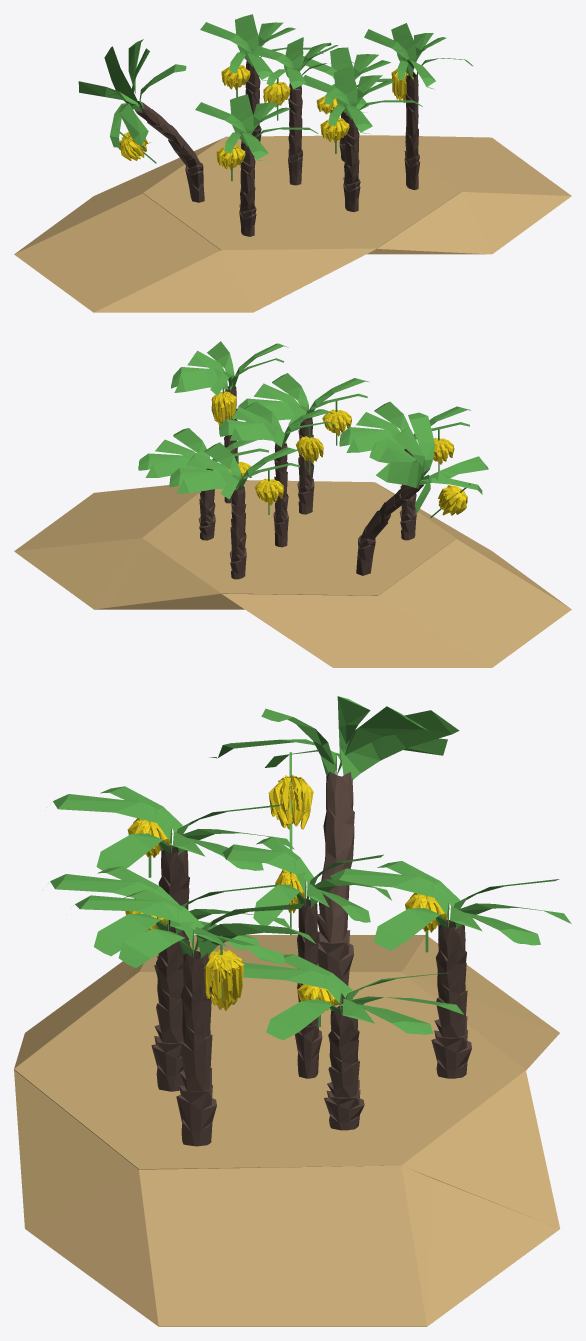
Rendered from insel7.fbx.
3 renders of one model, top to bottom at view 1: azimuth 30°, elevation 25°; view 2: azimuth 150°, elevation 25°; view 3: azimuth 270°, elevation 25°, orthographic. The views are drawn at different scales.
Visible parts, largest first — view 1: Landschaft, Blätter_10, Blätter, Blätter_4, Blätter_8, Blätter_14, Stamm_10, Blätter_12, Stamm_14, Blätter_6, Stamm_4, Stamm_12 (+7 smaller); view 2: Landschaft, Blätter_10, Blätter_8, Blätter_14, Blätter_4, Blätter, Blätter_12, Blätter_6, Stamm_10, Stamm_8, Stamm_12, Stamm_4 (+8 smaller); view 3: Landschaft, Blätter_10, Blätter_14, Blätter_8, Blätter, Stamm_14, Blätter_6, Stamm_10, Stamm_8, Blätter_4, Blätter_12, Stamm_4 (+5 smaller).
Boxes of the visible parts, x1,y1,x2,y2 form: Landschaft: (14,135,571,312); Blätter_10: (78,39,186,147); Blätter: (195,94,318,161); Blätter_4: (303,67,422,134); Blätter_8: (200,14,323,80); Blätter_14: (364,23,472,89); Stamm_10: (135,101,204,202); Blätter_12: (252,37,359,90); Stamm_14: (404,71,420,189); Blätter_6: (302,47,418,112); Stamm_4: (343,112,360,212); Stamm_12: (288,83,302,185); Landschaft: (14,480,571,667); Blätter_10: (369,412,488,512); Blätter_8: (169,442,300,499); Blätter_14: (171,341,288,395); Blätter_4: (238,373,369,426); Blätter: (339,401,470,452); Blätter_12: (219,401,336,447); Blätter_6: (138,428,268,477); Stamm_10: (356,477,423,575); Stamm_8: (229,485,246,579); Stamm_12: (273,443,288,547); Stamm_4: (297,417,314,514); Landschaft: (14,935,560,1326); Blätter_10: (209,696,459,780); Blätter_14: (73,889,315,967); Blätter_8: (330,861,571,950); Blätter: (53,786,294,875); Stamm_14: (176,950,216,1146); Blätter_6: (242,954,463,1040); Stamm_10: (317,771,354,1005); Stamm_8: (431,919,471,1078); Blätter_4: (50,866,290,956); Blätter_12: (222,836,391,925); Stamm_4: (151,925,185,1091).
Size of the model in its own units: 6073 by 2377 by 3655.
4 materials, 3 textured.
